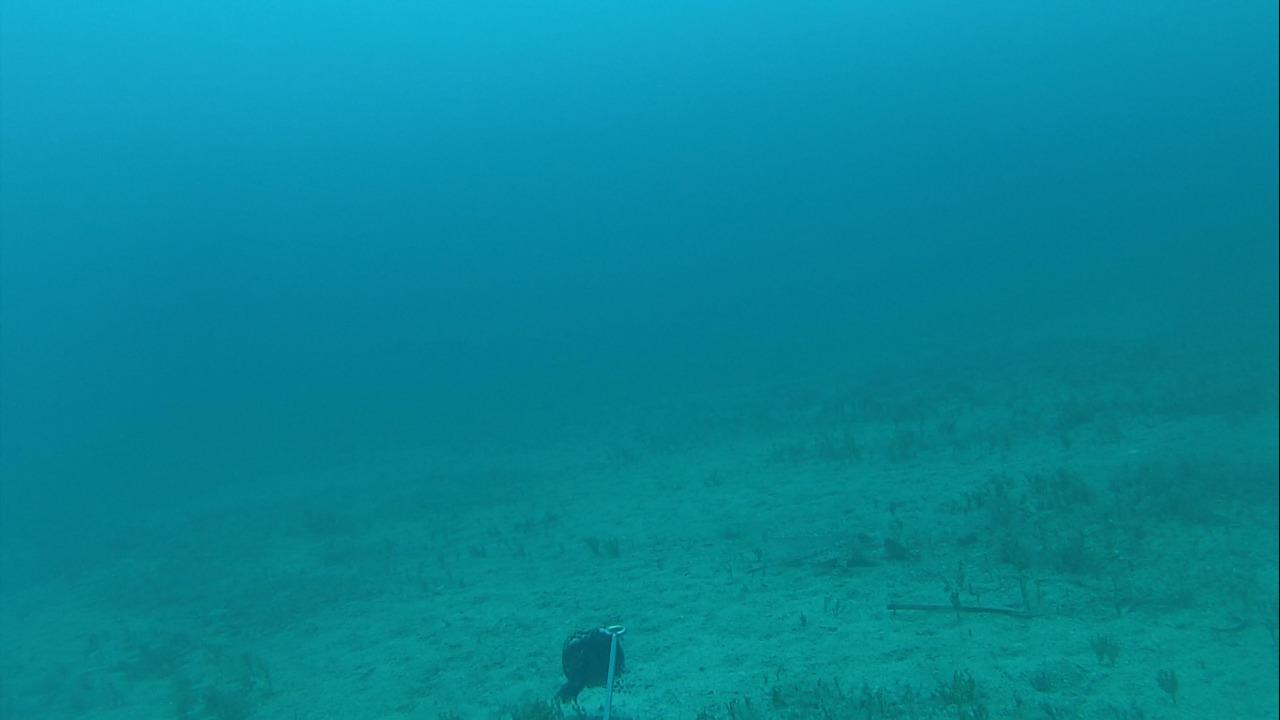dactylopterus: (733, 514, 904, 580)
